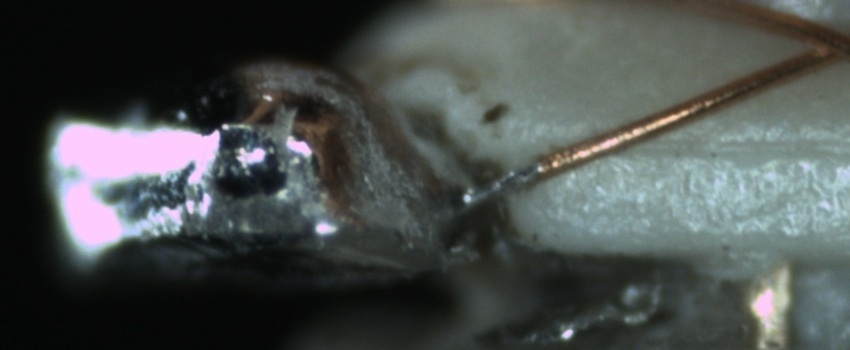CL: (781, 16, 846, 72)
DL: (612, 111, 845, 181)
TS: (456, 162, 542, 208)
